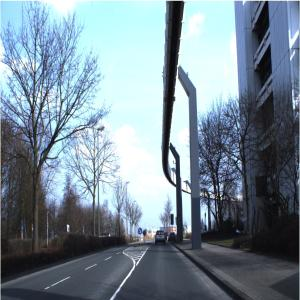keep right: (139, 229, 143, 236)
